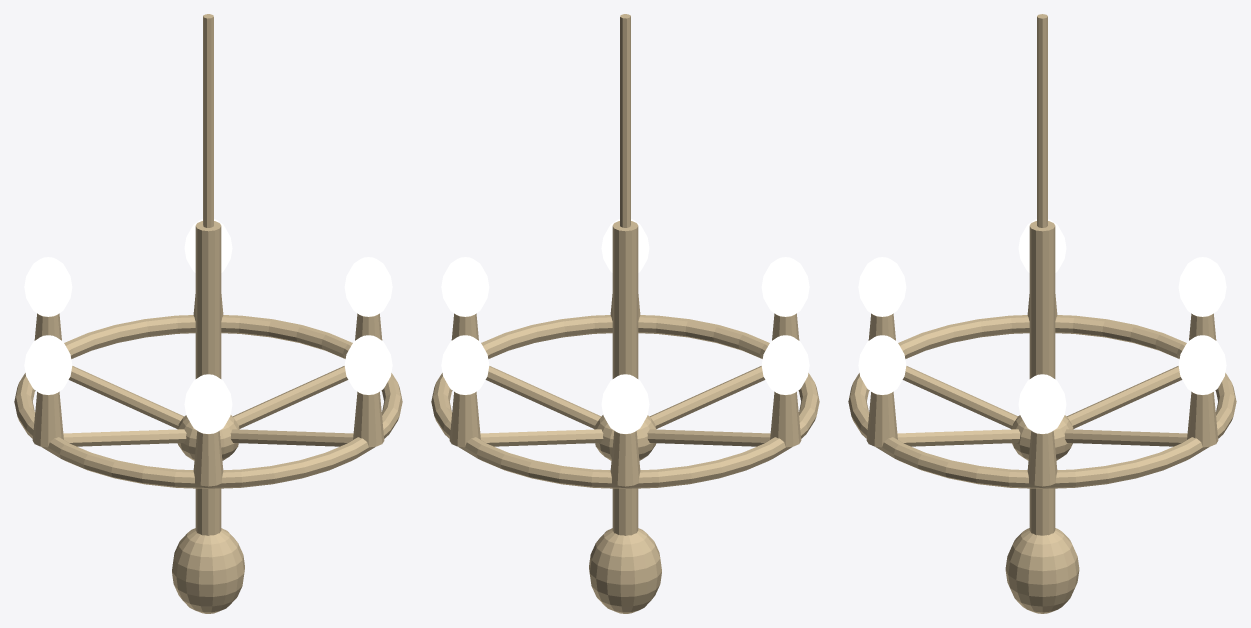
The model's file is own_chandelier_classic.glb.
3 views of the same model, side by side, from view 1: azimuth 30°, elevation 25°; view 2: azimuth 150°, elevation 25°; view 3: azimuth 270°, elevation 25° (orthographic).
Visible parts, largest first — view 1: model; view 2: model; view 3: model.
Boxes of the visible parts, x1,y1,x2,y2 form: model: (14,14,402,613); model: (431,14,819,613); model: (848,14,1236,613).
Bounding box in the file's own units: 0.452 × 0.71 × 0.42.
